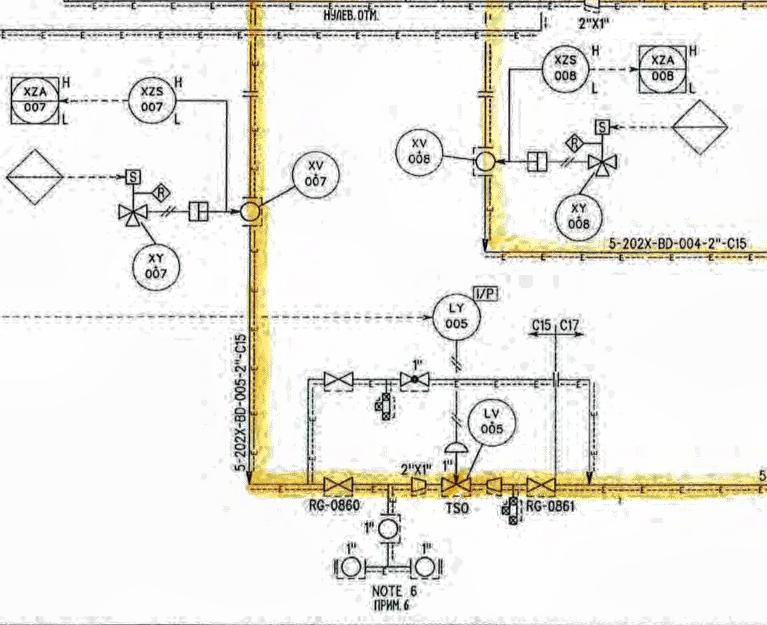2 WAY VALVE: (373, 388, 397, 424), (501, 495, 524, 528)
3 WAY BALL VALVE: (588, 152, 622, 179)
3 WAY GENERAL VALVE: (110, 198, 153, 232)
CONCENTRIC REDUCER: (407, 471, 429, 496), (484, 474, 506, 498)
DCS ACCESSIBLE: (632, 38, 695, 97), (8, 72, 68, 131)
DIAPHRAGM ACTUATED VALVE: (443, 437, 473, 498)
FIELD INSTRUMENT: (128, 72, 182, 129), (553, 188, 604, 244), (130, 242, 184, 293), (395, 125, 445, 180), (464, 398, 520, 447), (430, 289, 483, 340), (539, 41, 589, 94), (291, 147, 340, 201), (332, 557, 369, 581), (473, 147, 501, 178), (238, 200, 266, 229), (374, 514, 403, 542), (410, 554, 441, 580)
GATE VALVE: (321, 473, 358, 502), (320, 368, 360, 393), (522, 471, 559, 497)
GLOBE VALVE: (396, 366, 431, 391)
HARDWIRED INTERLOCK FIELD: (563, 128, 588, 156), (151, 180, 172, 205)
HARDWIRED INTERLOCK PRIMARY.: (2, 144, 71, 213), (673, 100, 731, 158)
IP CONVERTER: (472, 280, 502, 305)
SPEED FLOW METER: (115, 164, 150, 194), (590, 113, 615, 138)
